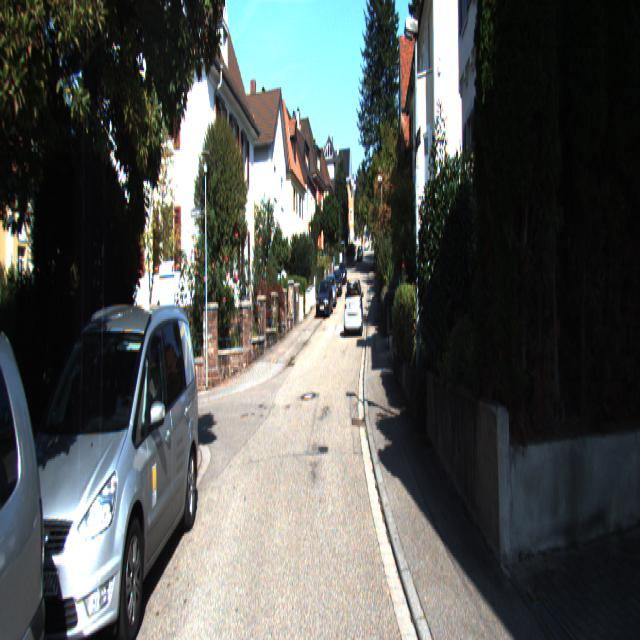Car: (0, 311, 205, 638), (0, 275, 68, 638), (343, 278, 363, 340), (315, 278, 334, 318)
